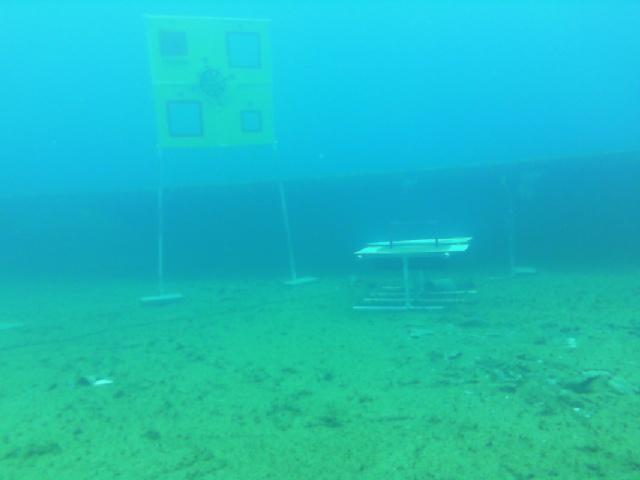bin_cover: (328, 224, 483, 324)
torpedo_cover: (157, 28, 204, 58)
torpedo_hole: (163, 95, 211, 136), (223, 31, 262, 68), (154, 36, 189, 57), (239, 109, 266, 131)
torpedo_target: (131, 9, 286, 149)
